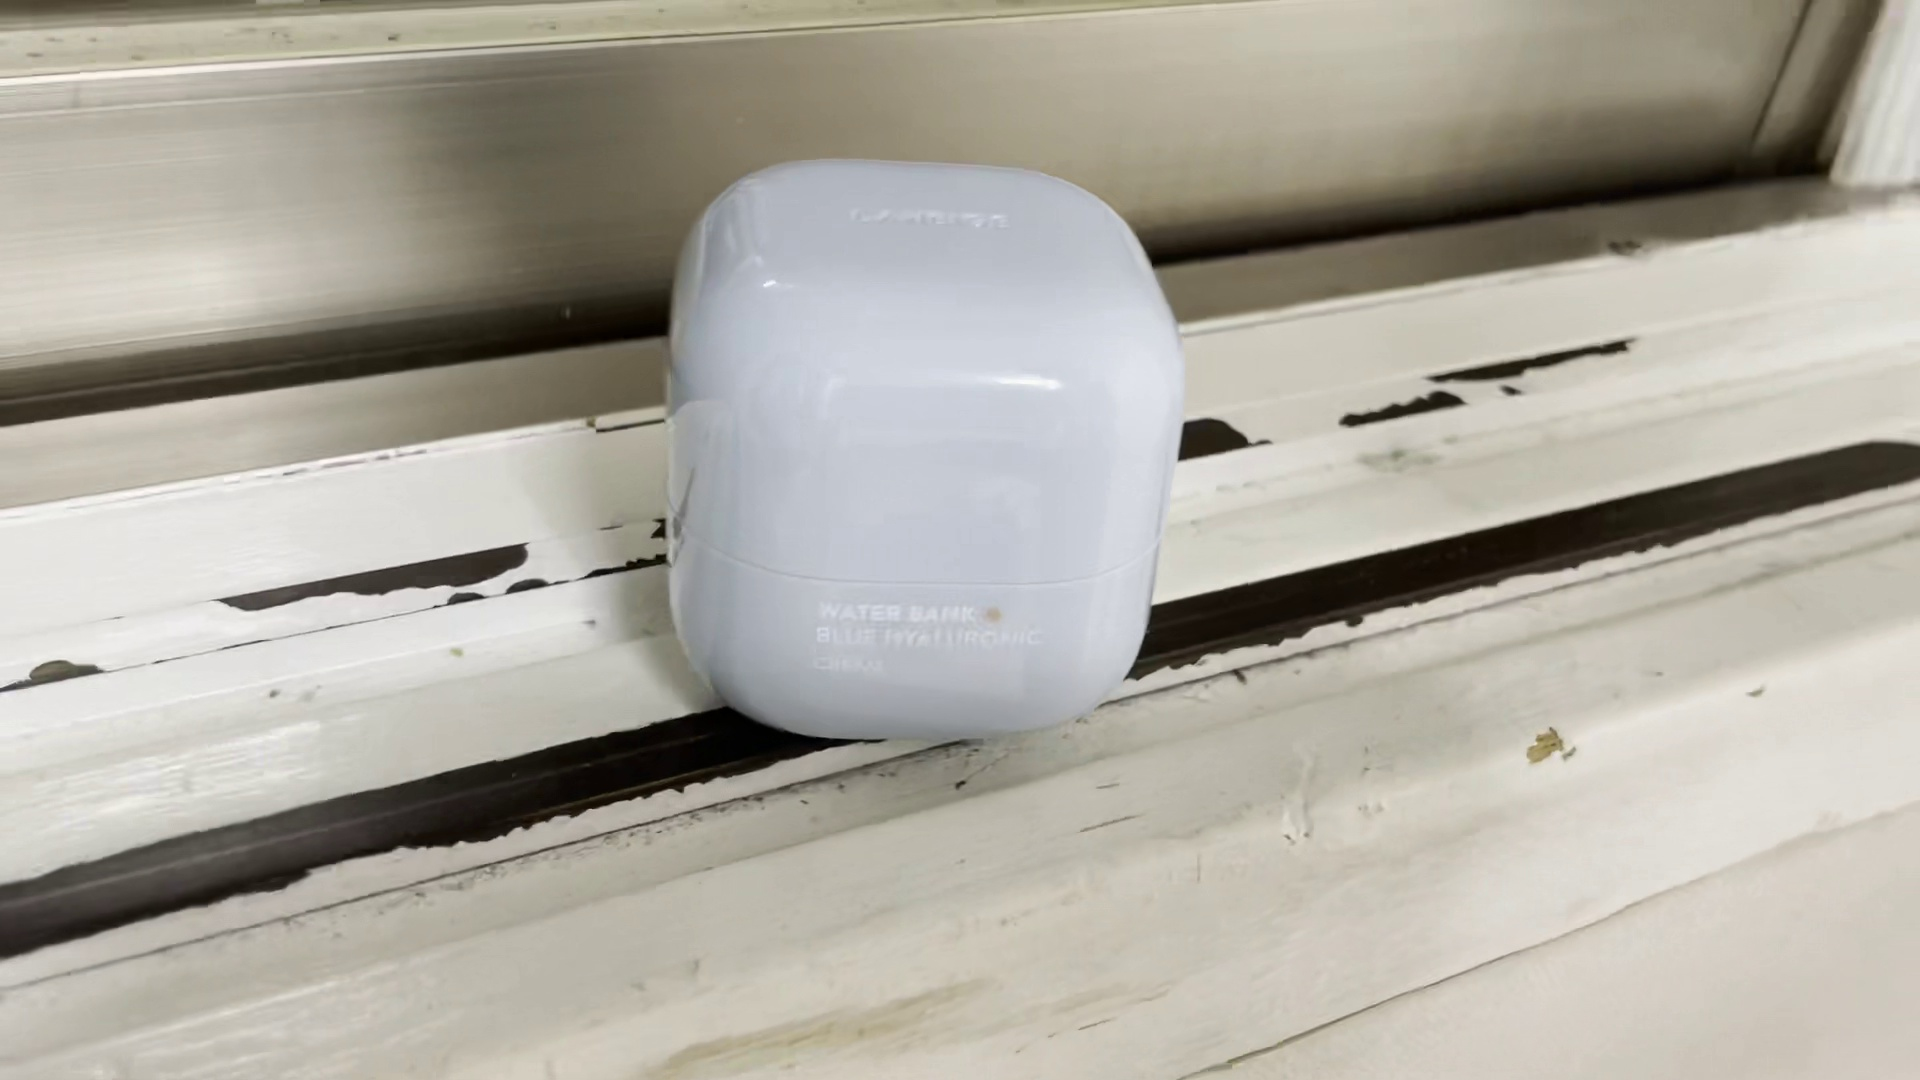cream: (663, 162, 1179, 735)
